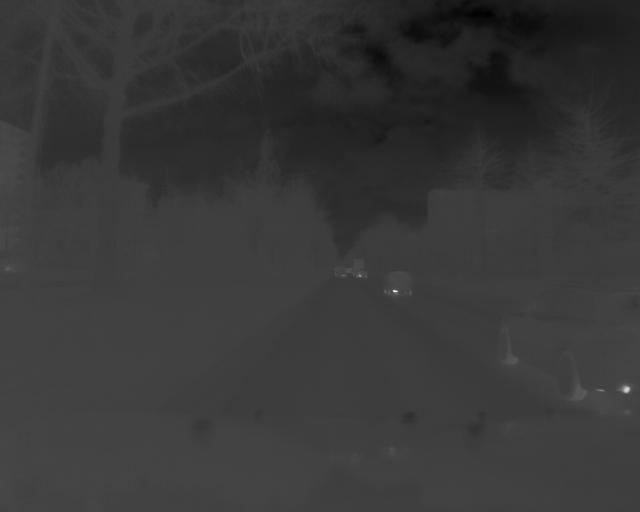car: (493, 279, 640, 403), (380, 268, 415, 297), (332, 263, 348, 281)
